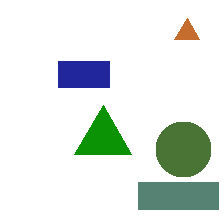circle: (156, 122, 210, 176)
rectangle: (138, 182, 218, 209), (58, 61, 109, 87)
triangle: (74, 105, 131, 154), (174, 18, 199, 39)
